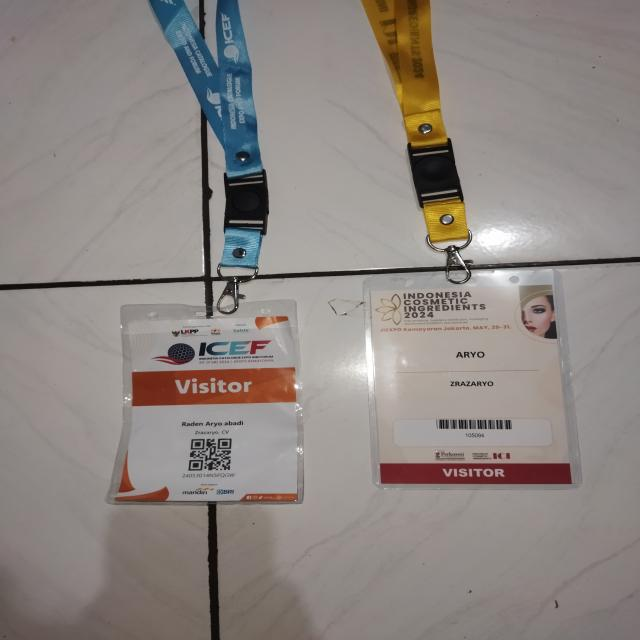ID_card: (362, 267, 582, 490), (105, 300, 304, 506)
